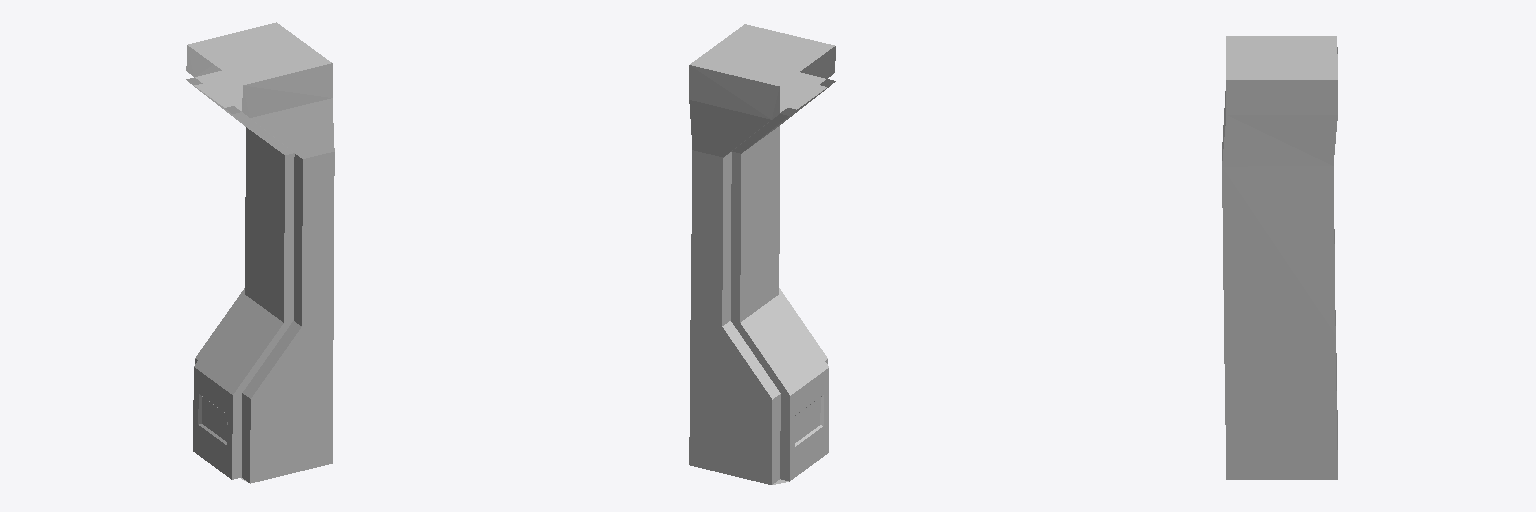
File: interior_single_pillar.obj
3 views of the same model, side by side, from view 1: azimuth 30°, elevation 25°; view 2: azimuth 150°, elevation 25°; view 3: azimuth 270°, elevation 25° (orthographic).
Parts seen in each view (by area): view 1: Plane.005_Plane.017; view 2: Plane.005_Plane.017; view 3: Plane.005_Plane.017.
Boxes of the visible parts, <box> form: Plane.005_Plane.017: <box>186,22,334,483</box>; Plane.005_Plane.017: <box>689,24,835,484</box>; Plane.005_Plane.017: <box>1222,36,1337,479</box>.
Size of the model in its own units: 1.04 by 4 by 1.05.